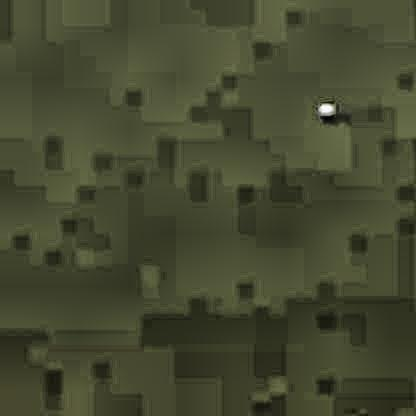golfball: (316, 100, 333, 115)
